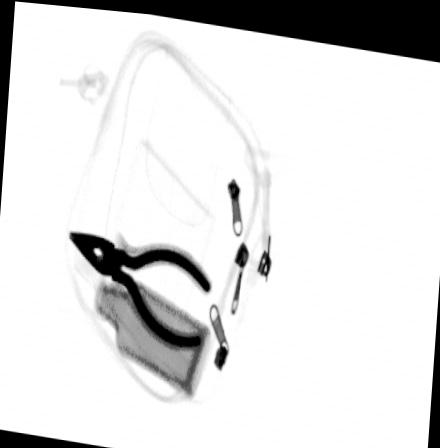Pliers: (67, 225, 214, 346)
